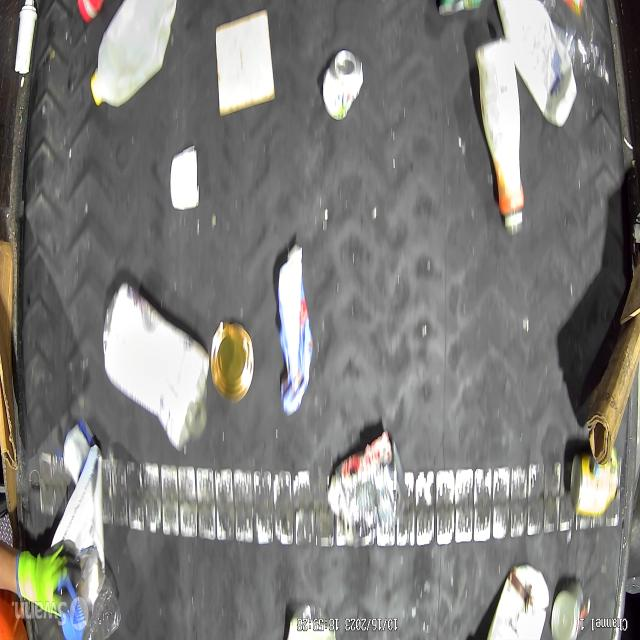can: (328, 436, 405, 547), (210, 323, 254, 403), (570, 451, 618, 518), (322, 52, 364, 122), (552, 581, 584, 640)
milk_jug: (90, 0, 178, 108), (486, 565, 550, 640)
non_white_jug: (276, 242, 313, 414)
